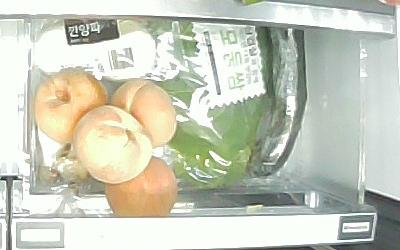peach: (72, 105, 154, 183), (35, 69, 109, 143), (111, 77, 176, 149), (104, 155, 177, 218)
